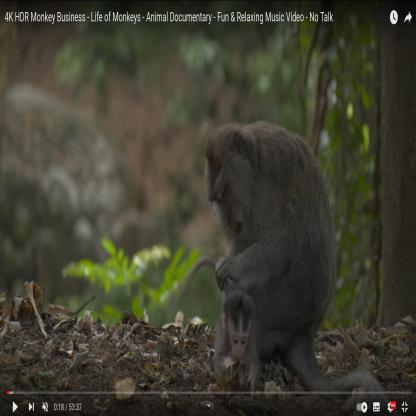monkey: (200, 118, 364, 390)
